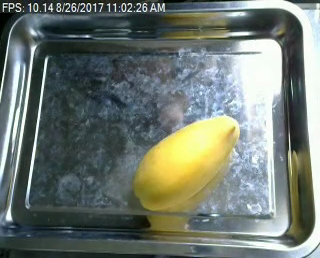Mango: (134, 115, 240, 214)
